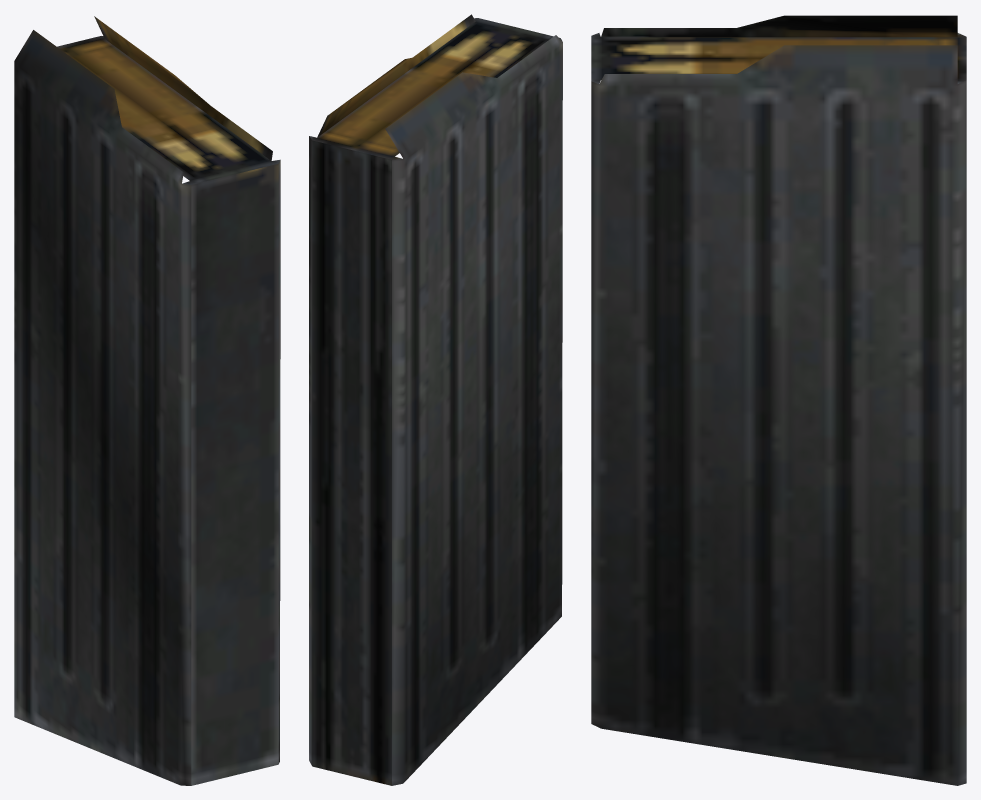
Rendered from Assault_Rifle_bq_dj_02_lod2_Magazine_LOD_(000092).glb.
The picture shows the model from 3 angles, left to right: view 1: azimuth 30°, elevation 25°; view 2: azimuth 150°, elevation 25°; view 3: azimuth 270°, elevation 25°; orthographic projection. The views are drawn at different scales.
Parts seen in each view (by area): view 1: bq_dj_02_lod2; view 2: bq_dj_02_lod2; view 3: bq_dj_02_lod2.
Part boxes in pixels (x1,y1,x2,y2): bq_dj_02_lod2: (14,16,280,785); bq_dj_02_lod2: (309,14,562,785); bq_dj_02_lod2: (591,15,966,785).
Bounding box in the file's own units: 0.0279 × 0.1847 × 0.0857.
Materials: 1 (1 with a texture image).
